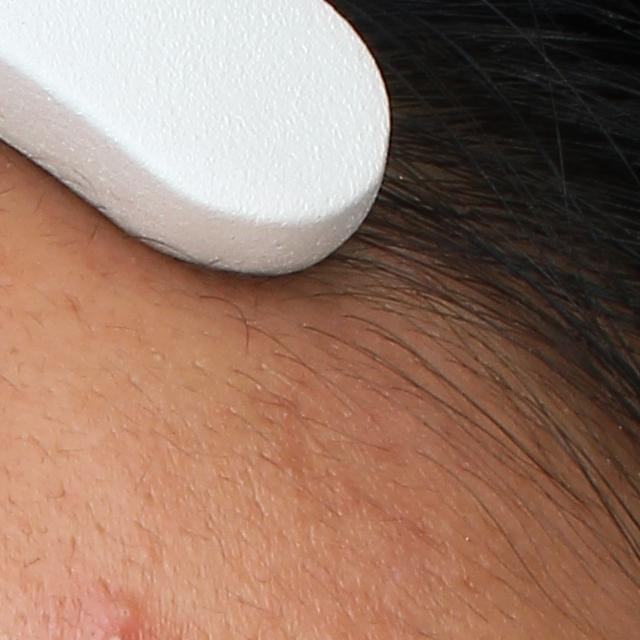papule: (110, 600, 143, 628)
